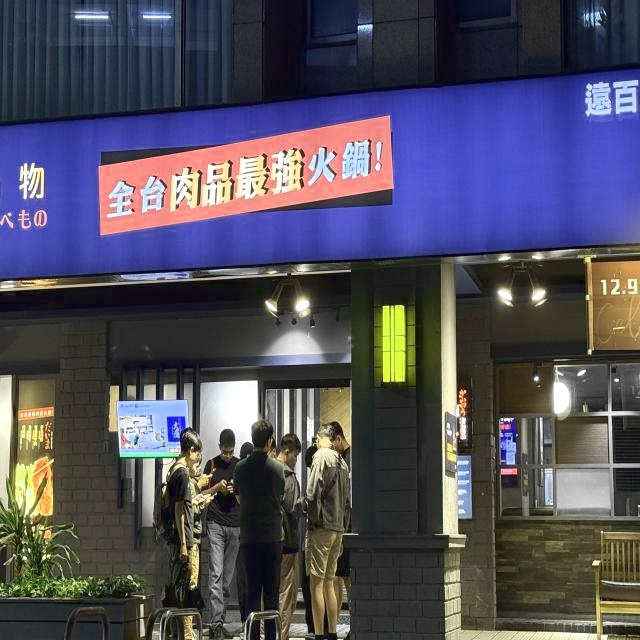Sin_Casco_Mascarrilla: (251, 419, 273, 453), (180, 431, 202, 464), (282, 432, 301, 468), (219, 428, 236, 460), (315, 423, 335, 449)
Sin_Chaleco: (239, 458, 283, 538), (314, 451, 348, 532), (163, 466, 193, 546)
